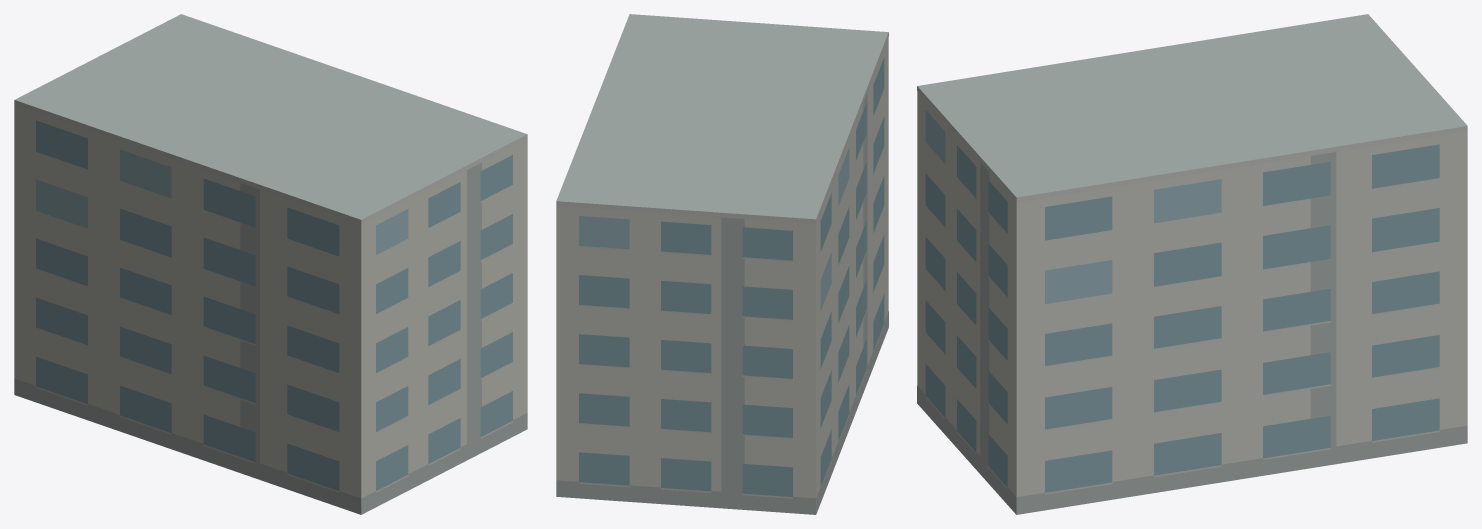
File: survey-upis-32834287.glb
3 renders of one model, left to right at view 1: azimuth 30°, elevation 25°; view 2: azimuth 150°, elevation 25°; view 3: azimuth 270°, elevation 25°, orthographic. The views are drawn at different scales.
Parts seen in each view (by area): view 1: survey-upis-32834287.tmp; view 2: survey-upis-32834287.tmp; view 3: survey-upis-32834287.tmp.
Boxes of the visible parts, box(x1,y1,x2,y2) form: survey-upis-32834287.tmp: box(14, 14, 527, 514); survey-upis-32834287.tmp: box(556, 14, 888, 514); survey-upis-32834287.tmp: box(917, 14, 1467, 514).
Bounding box in the file's own units: 18.92 × 15.25 × 23.98.
